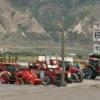Tractor: (2, 51, 64, 93)
